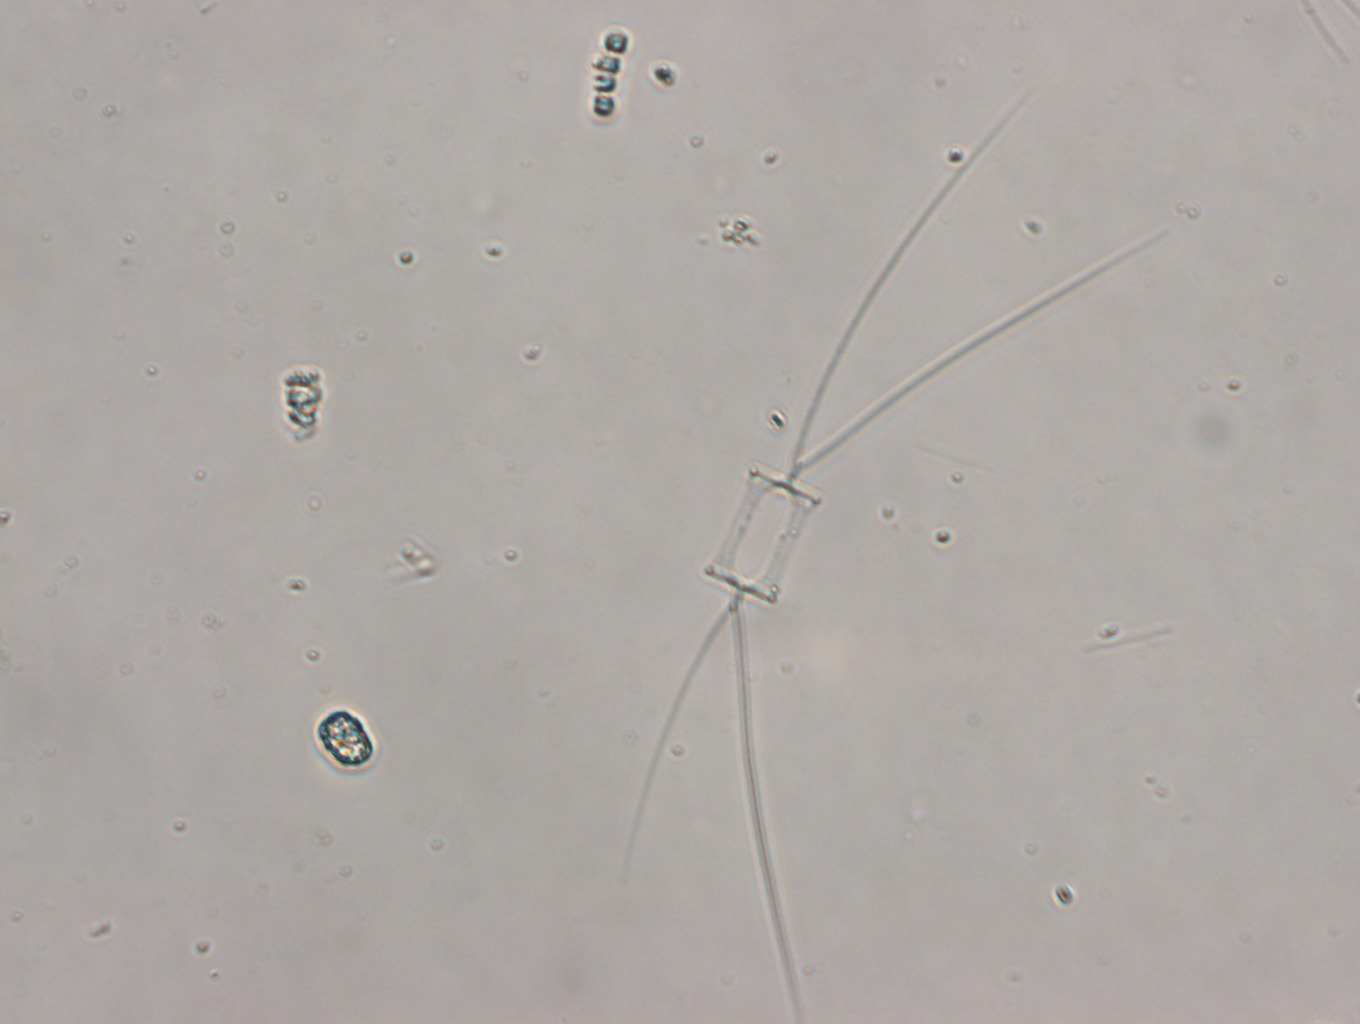chaetoceros: (629, 88, 1158, 1024)
skeletonema: (590, 25, 632, 122)
